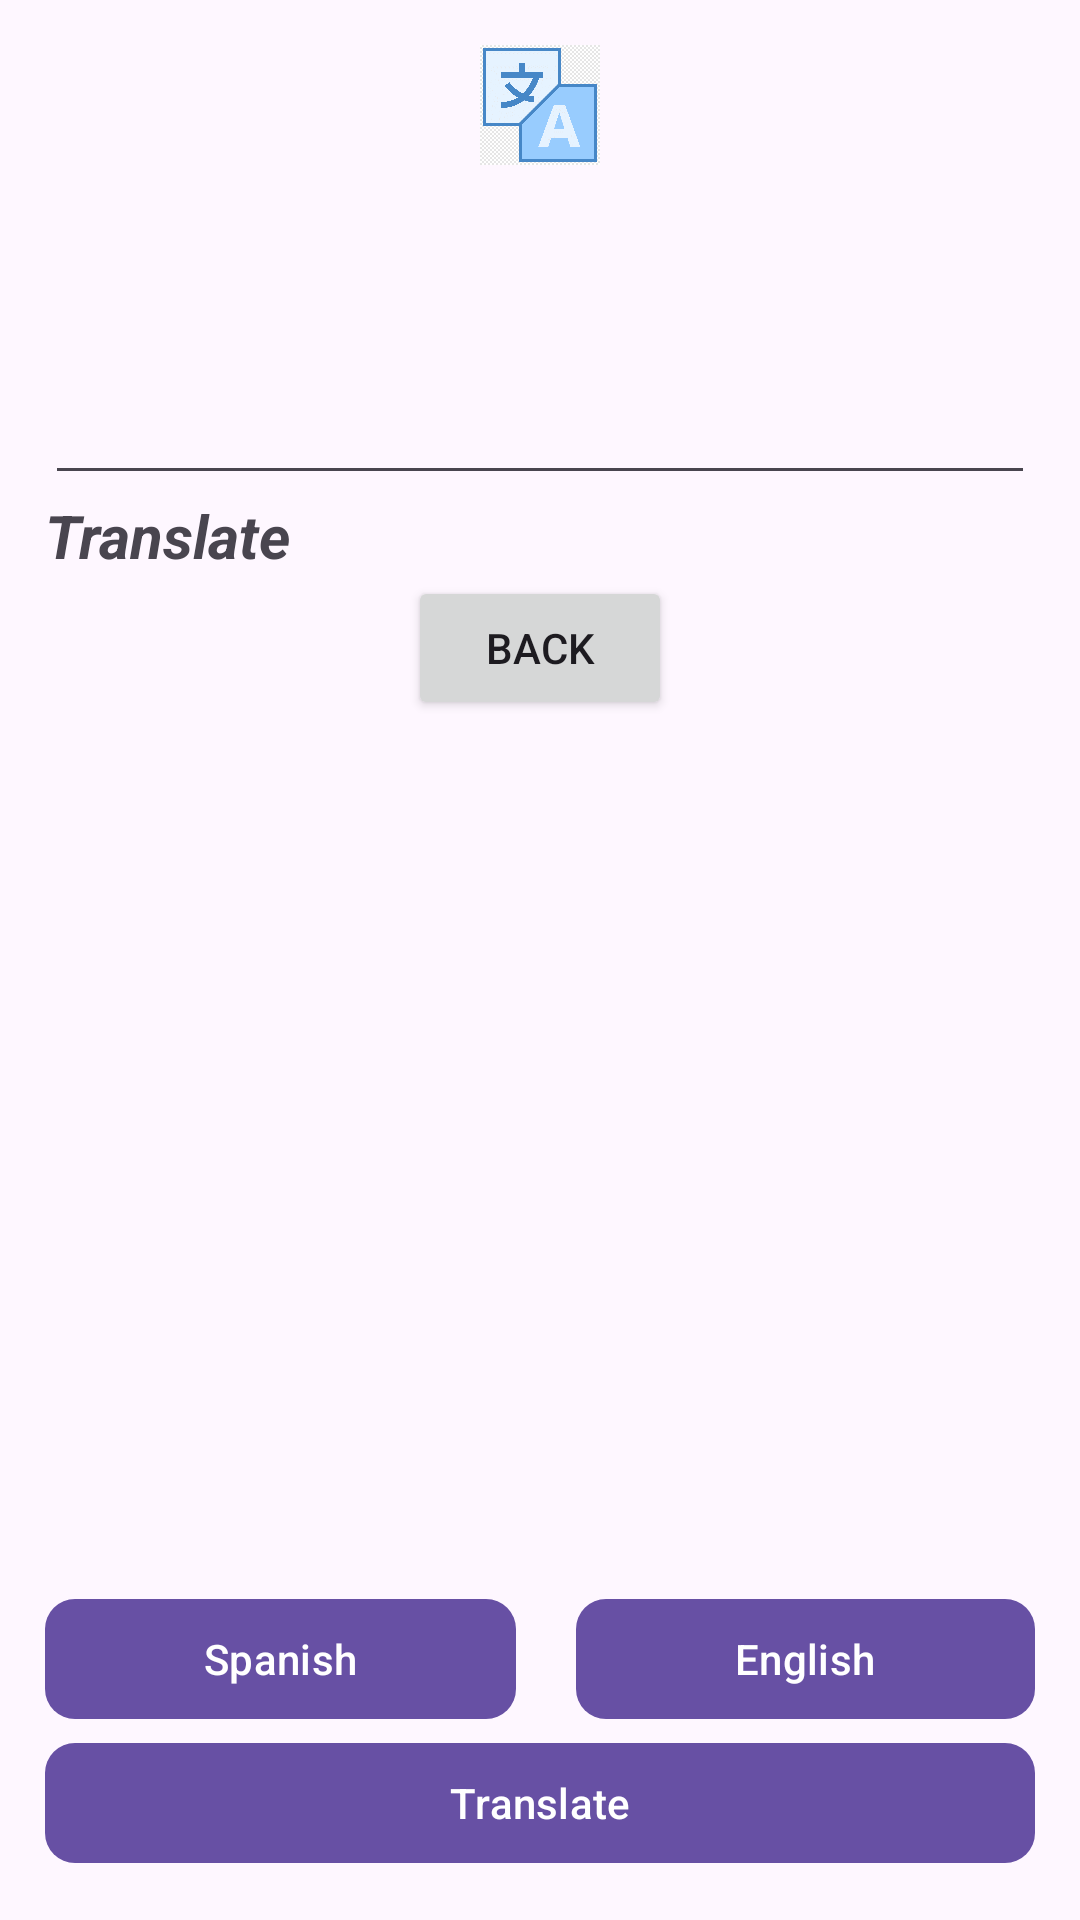

Named icons in this screenshot (1080x1920) and their centers, (x=x, y=y):
translate: (x=540, y=105)
